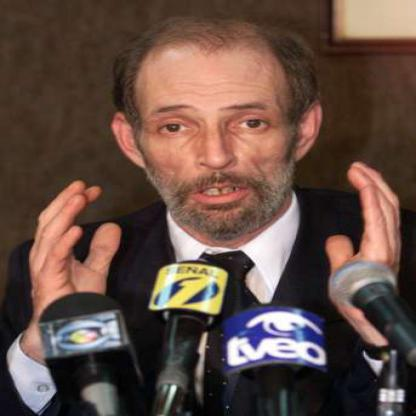face: (137, 18, 300, 240)
